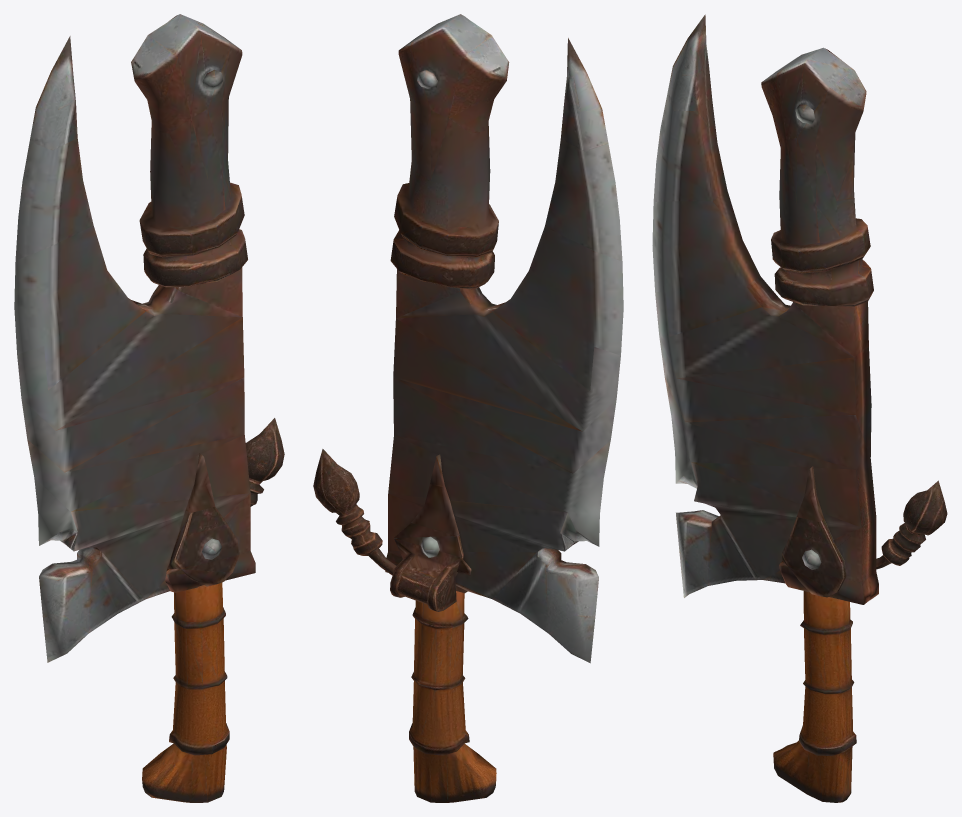
Rendered from wpn_cleaver.glb.
The picture shows the model from 3 angles, left to right: view 1: azimuth 30°, elevation 25°; view 2: azimuth 150°, elevation 25°; view 3: azimuth 330°, elevation 25°; orthographic projection. The views are drawn at different scales.
Bounding box in the file's own units: 0.3589 × 0.9531 × 0.1201.
1 material, 1 textured.
